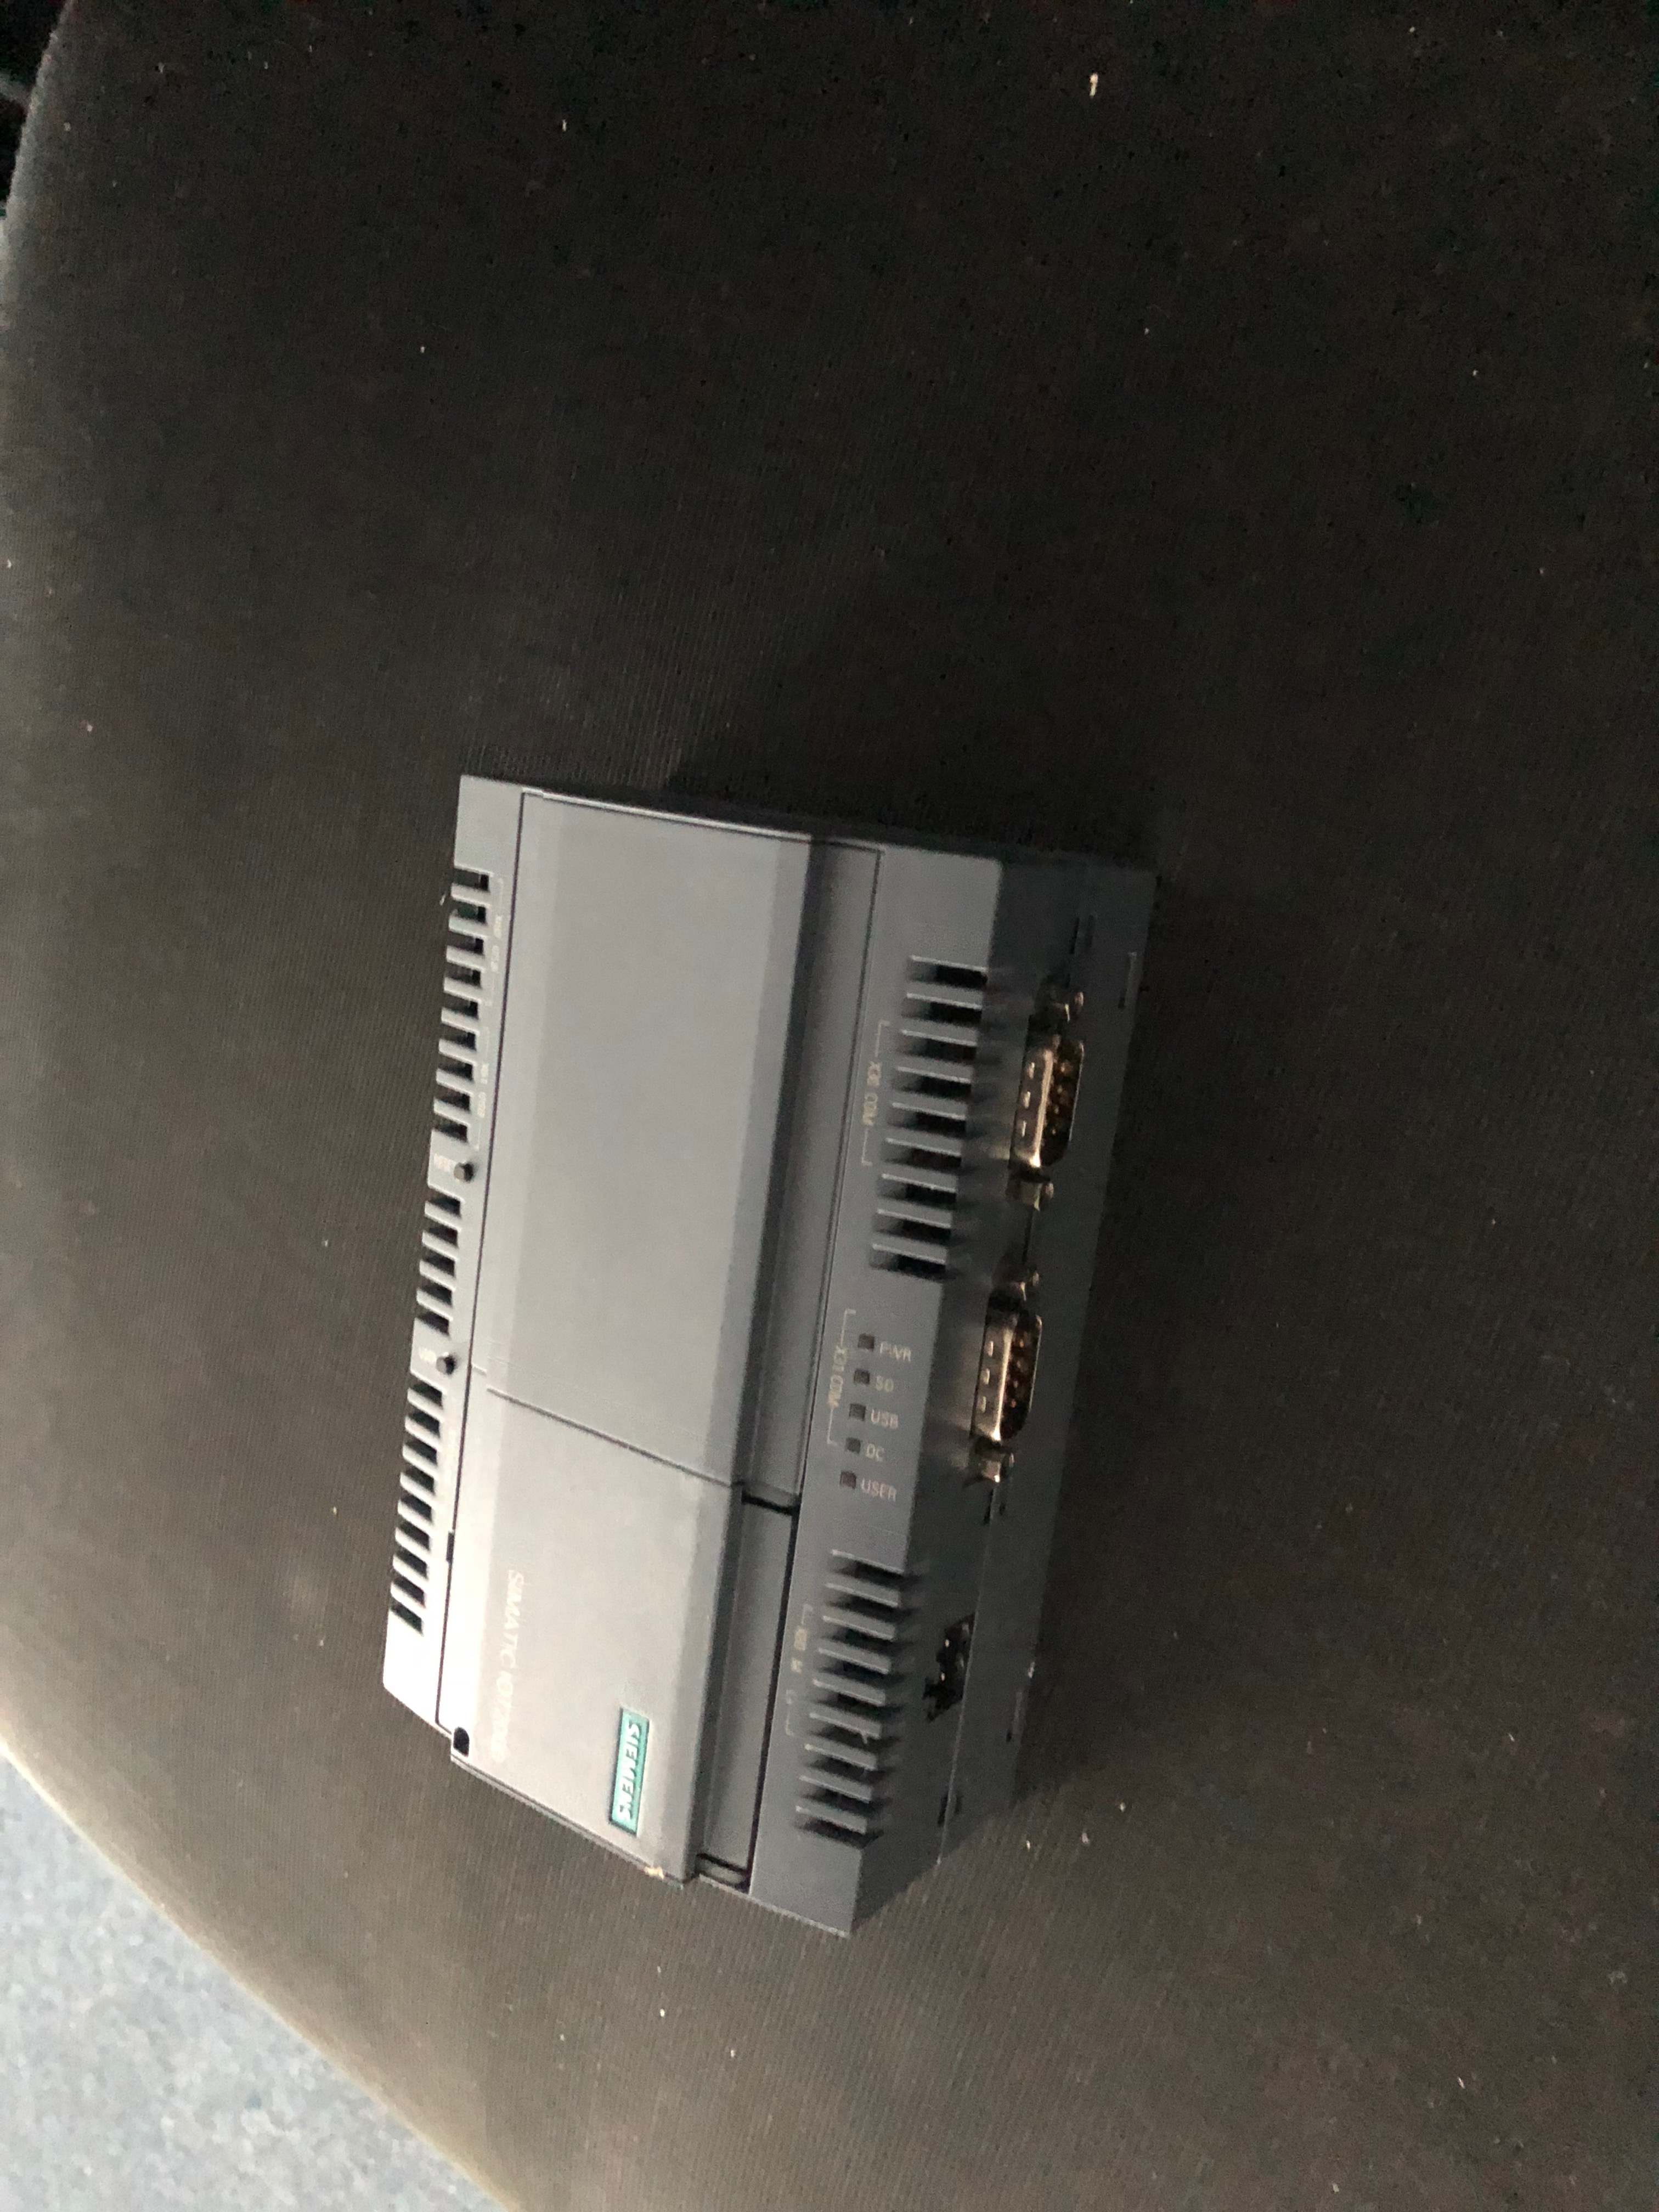device: (382, 773, 1157, 1940)
